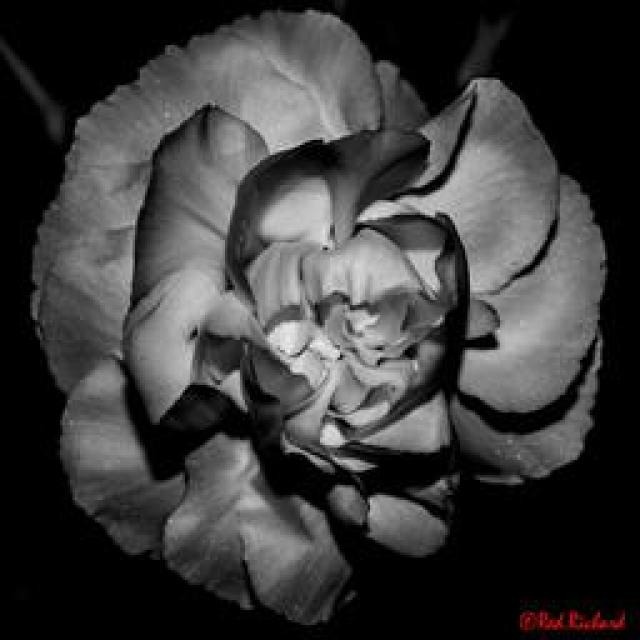carnation: (23, 12, 640, 610)
